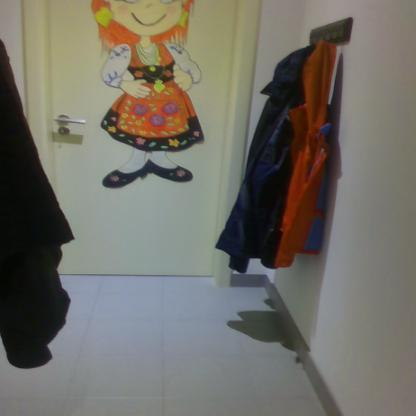door: (48, 0, 222, 276)
lever: (52, 114, 88, 127)
